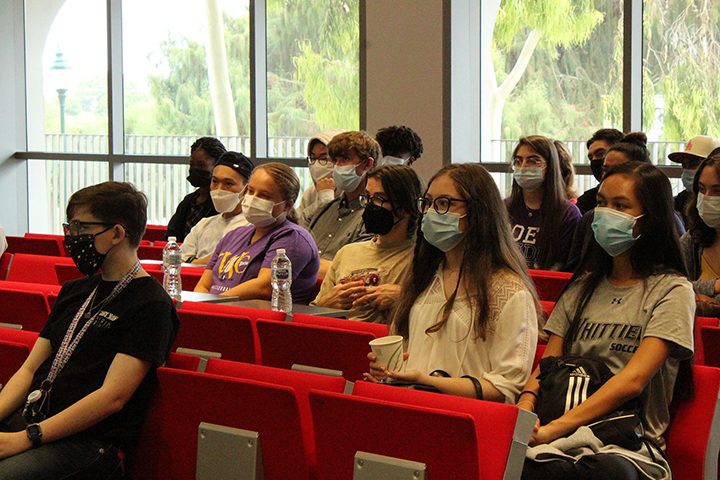with_mask: (59, 209, 121, 269), (588, 194, 643, 246), (419, 192, 464, 242), (246, 183, 291, 225), (511, 153, 549, 195), (366, 188, 402, 226), (338, 150, 365, 196)
without_mask: (208, 164, 240, 215), (696, 164, 720, 232)
